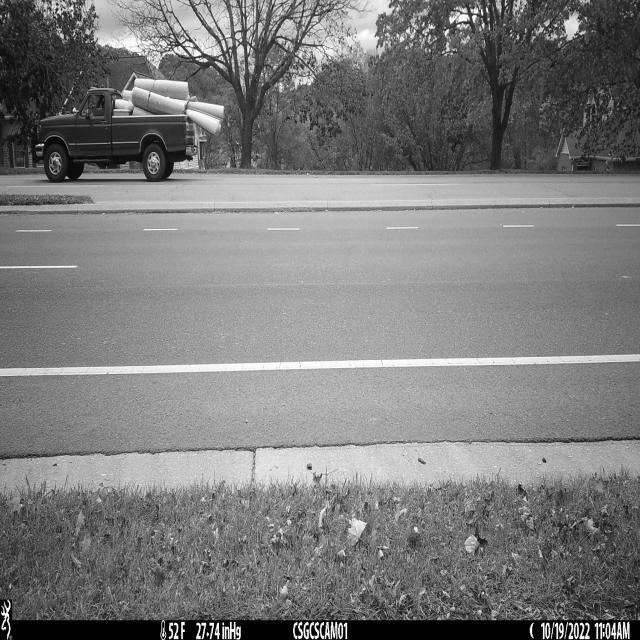Pickup: (36, 88, 200, 182)
